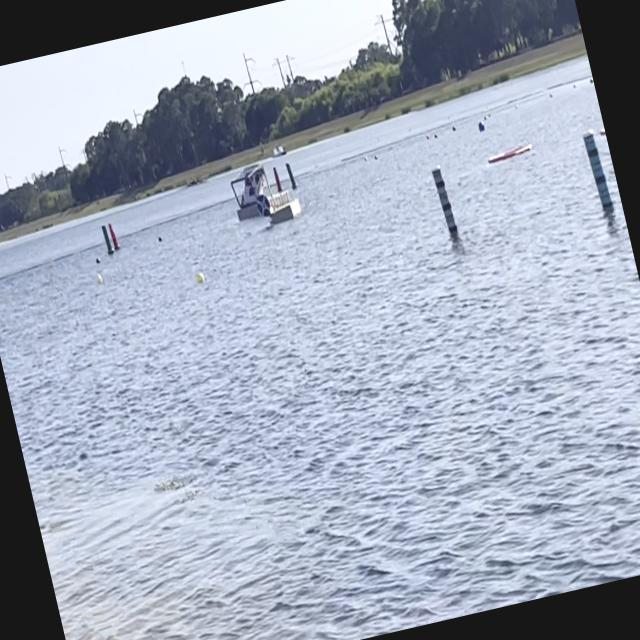buoy: (195, 270, 204, 282), (95, 272, 102, 282)
